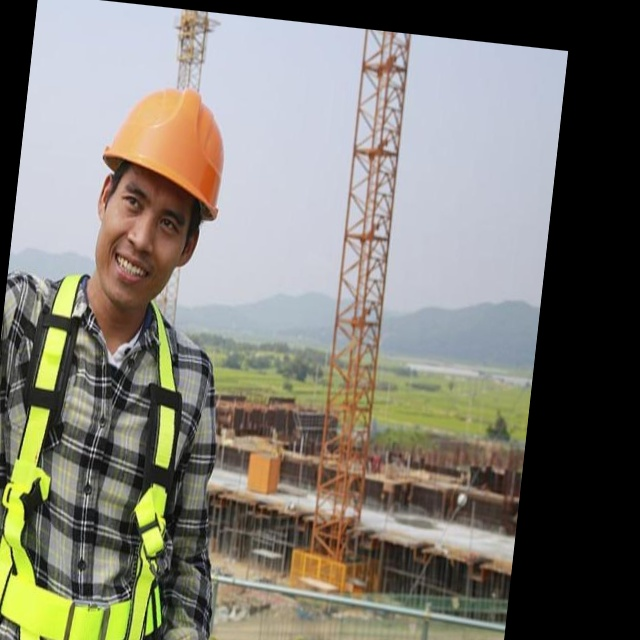Con_Casco: (83, 76, 233, 315)
Con_Chaleco: (0, 276, 215, 640)
